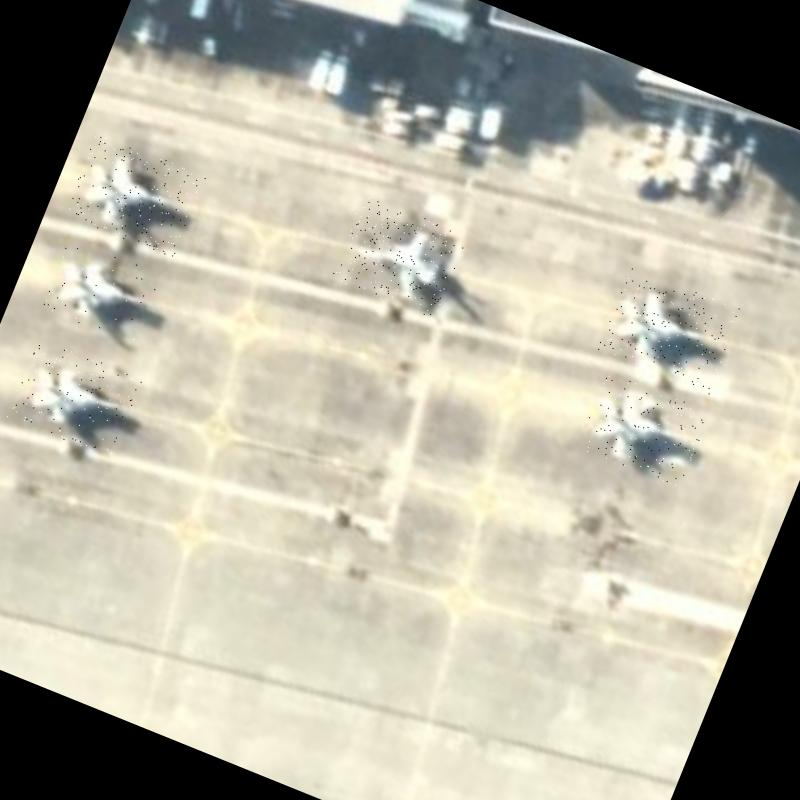A16: (596, 264, 744, 394), (63, 132, 206, 258), (330, 194, 468, 320), (4, 335, 144, 459), (575, 368, 712, 490), (40, 237, 172, 350)
